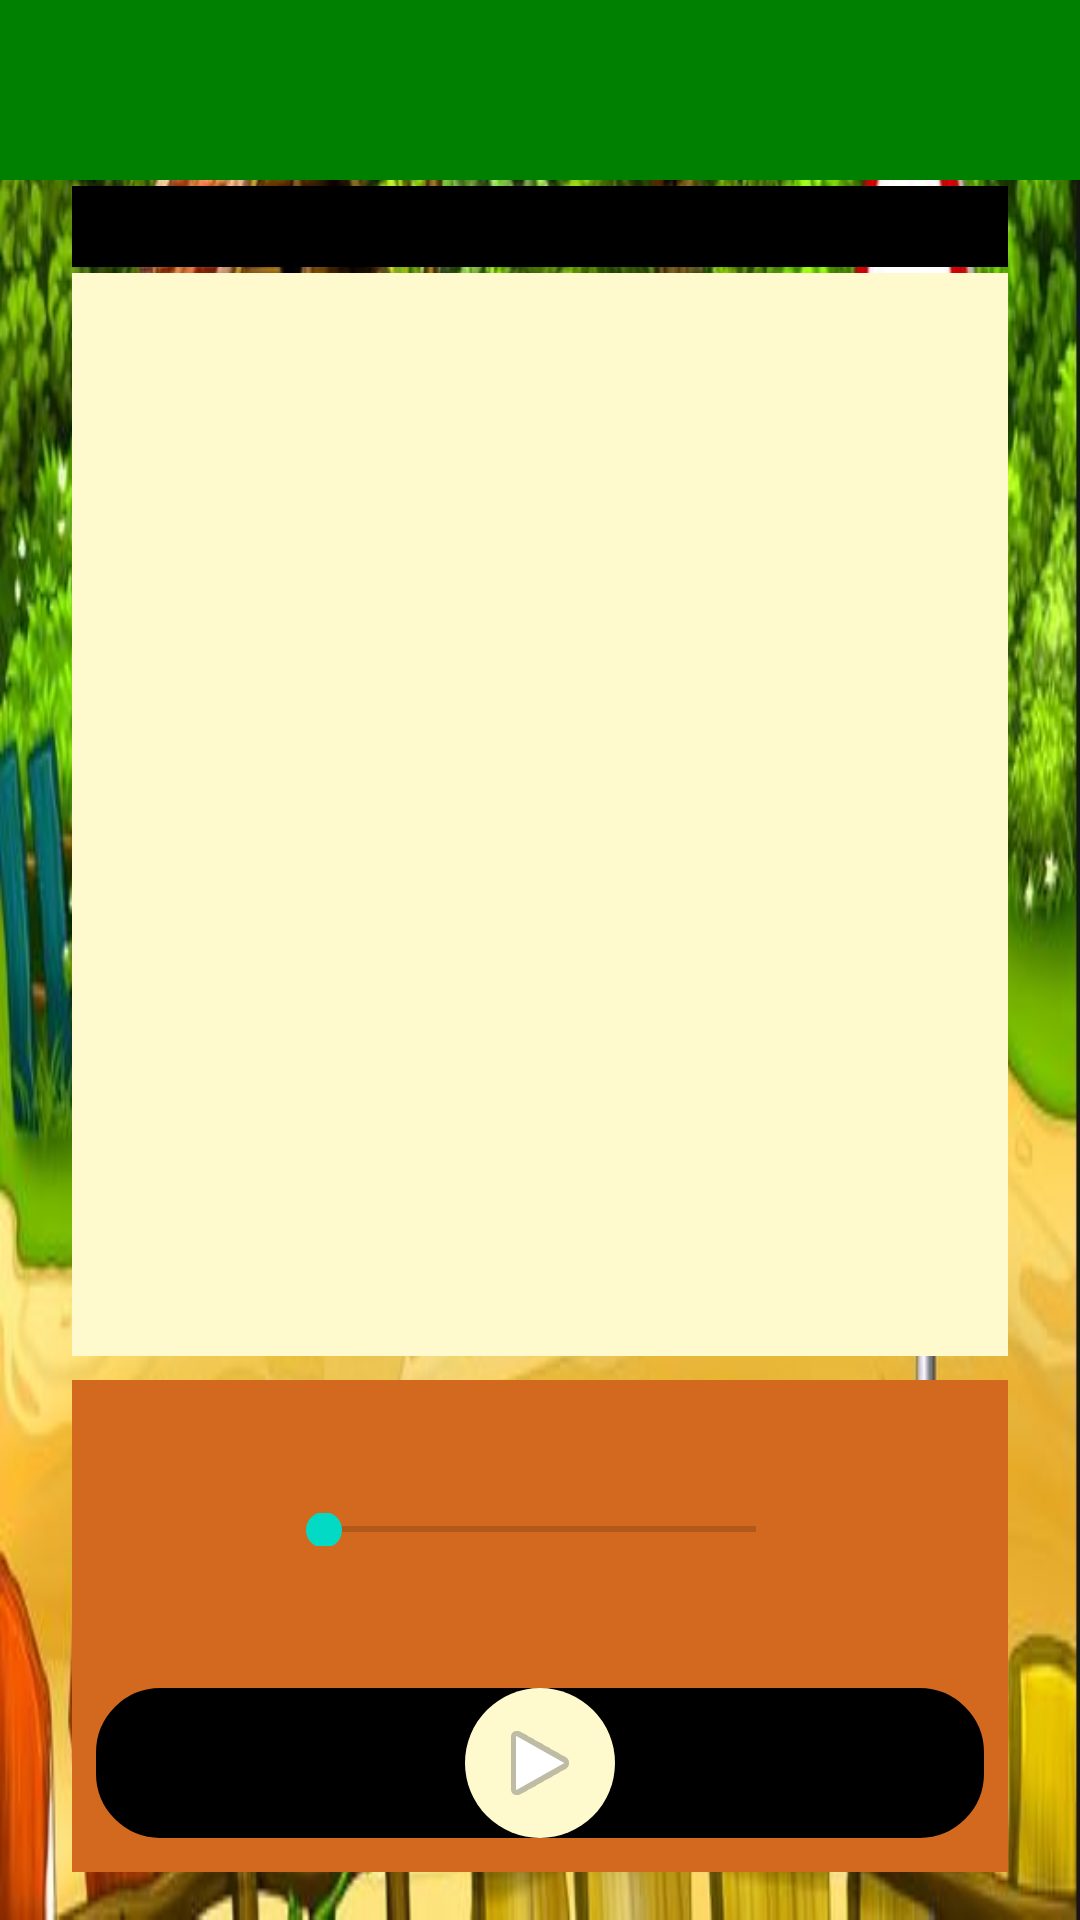

Where to tap for icons on this 1080*1920 app screen, as (x,y):
play: (540,1763)
